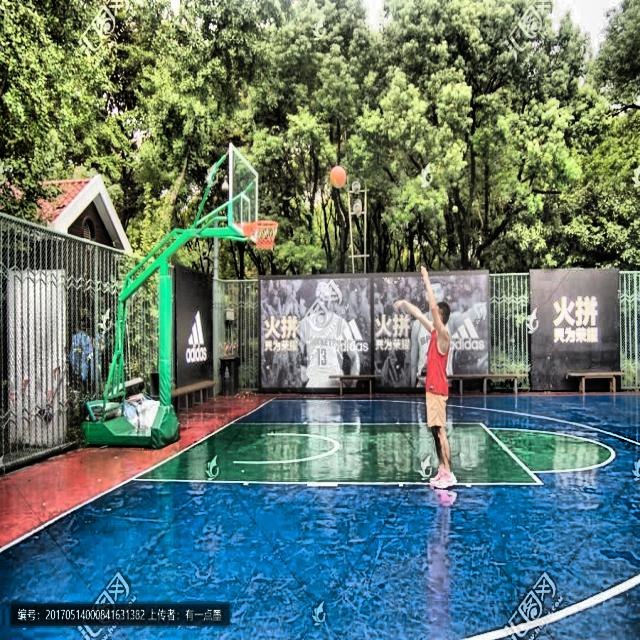rim: (251, 220, 278, 250)
